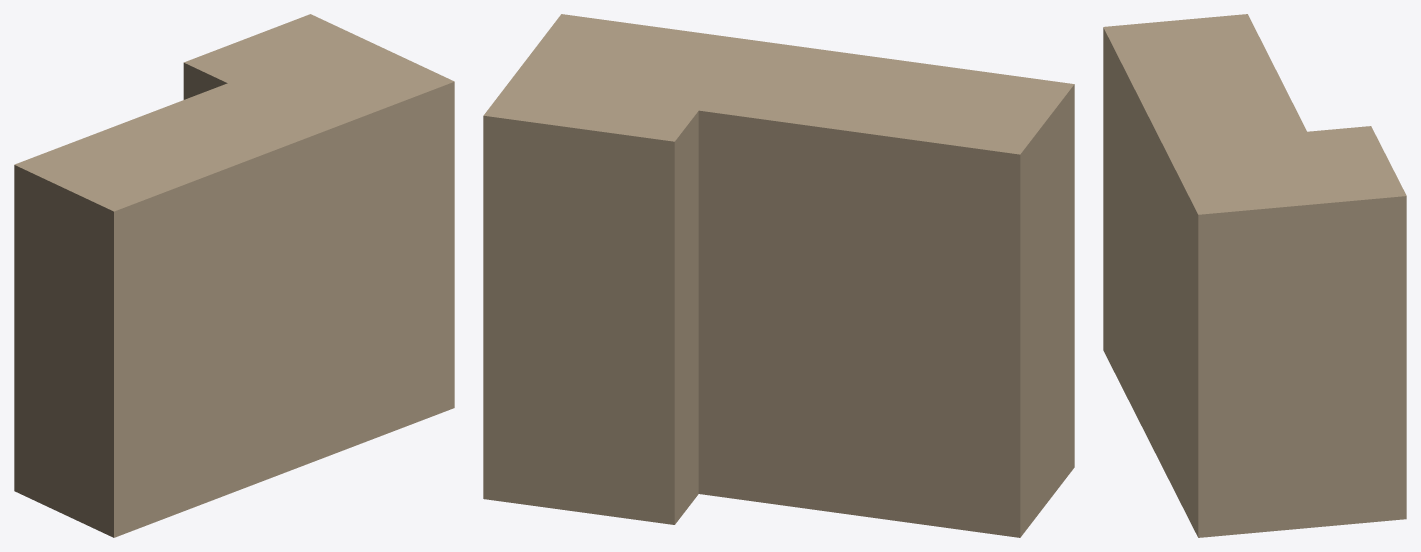
The model's file is bld_107639541.dae.
3 views of the same model, side by side, from view 1: azimuth 30°, elevation 25°; view 2: azimuth 150°, elevation 25°; view 3: azimuth 270°, elevation 25° (orthographic). The views are drawn at different scales.
Visible parts, largest first — view 1: bld_107639541; view 2: bld_107639541; view 3: bld_107639541.
Part boxes in pixels (left/top/right/bottom): bld_107639541: left=14, top=14, right=454, bottom=537; bld_107639541: left=483, top=14, right=1074, bottom=537; bld_107639541: left=1103, top=14, right=1406, bottom=537.
Size of the model in its own units: 10.66 by 6.81 by 8.
